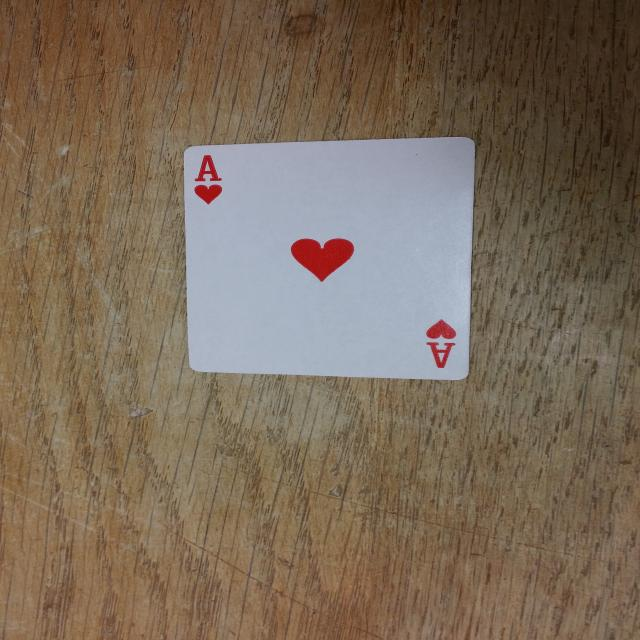Ah: (185, 149, 244, 213), (410, 314, 466, 374)
